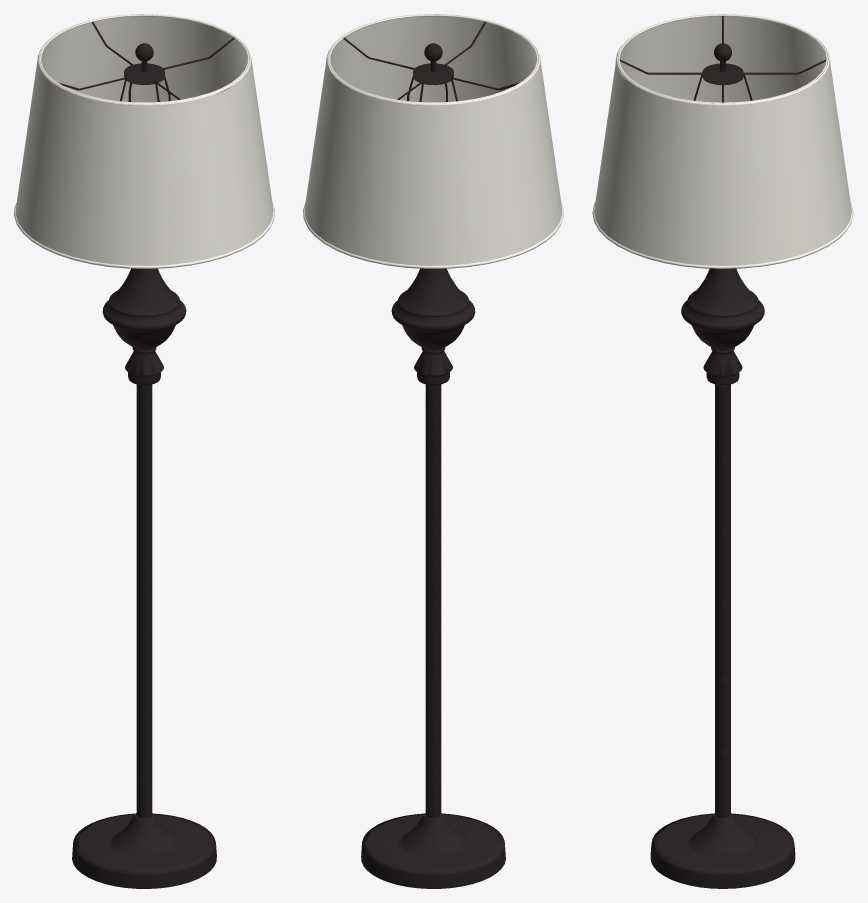
The model's file is B07DBH531B.glb.
3 renders of one model, left to right at view 1: azimuth 30°, elevation 25°; view 2: azimuth 150°, elevation 25°; view 3: azimuth 270°, elevation 25°, orthographic.
Parts seen in each view (by area): view 1: RootNode; view 2: RootNode; view 3: RootNode.
Part boxes in pixels (x1,y1,x2,y2): RootNode: (14,14,274,888); RootNode: (303,14,563,888); RootNode: (592,14,853,888).
Size of the model in its own units: 0.4313 by 1.48 by 0.4313.
Materials: 1 (1 with a texture image).
